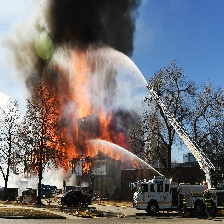fire: (35, 56, 140, 173)
smoke: (4, 1, 157, 60)
